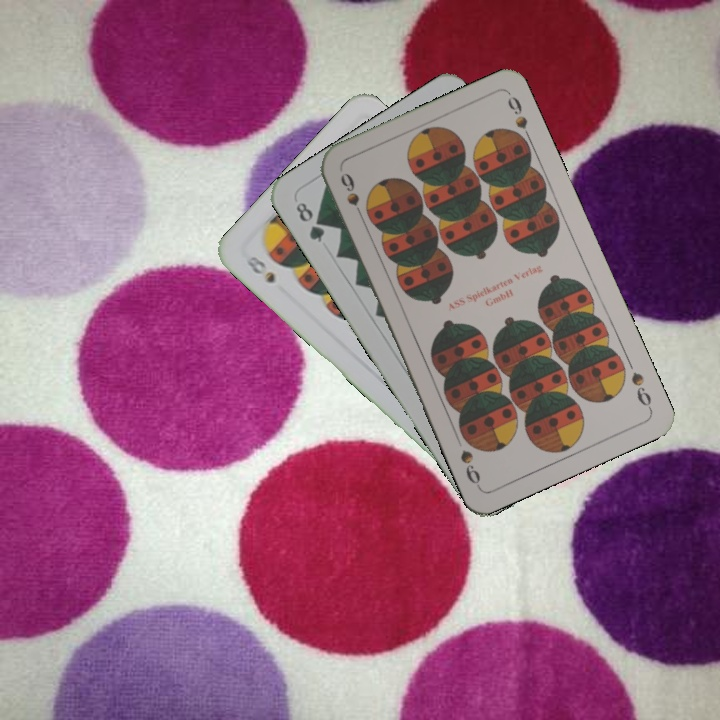G8: (291, 198, 328, 245)
S8: (241, 252, 278, 286)
S9: (336, 168, 367, 224), (627, 368, 655, 413)
